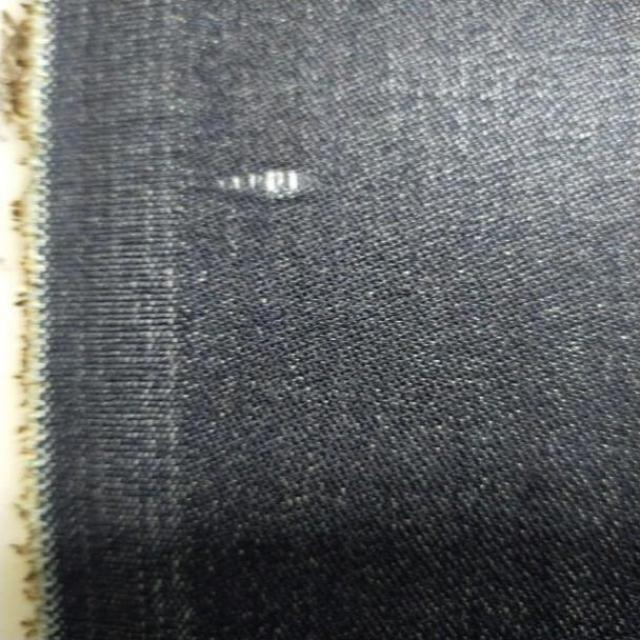Knot: (217, 168, 320, 198)
